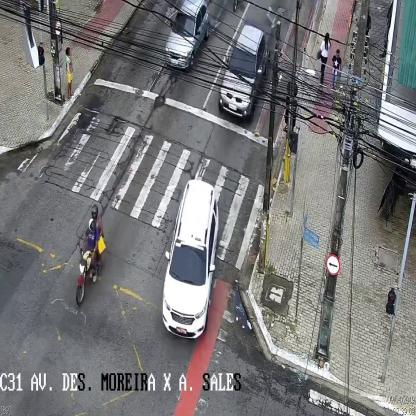car: (161, 180, 219, 340), (219, 25, 268, 121), (164, 2, 210, 70)
motorbike: (75, 204, 106, 305)
person: (320, 31, 330, 85), (65, 47, 74, 99), (332, 49, 341, 97)
